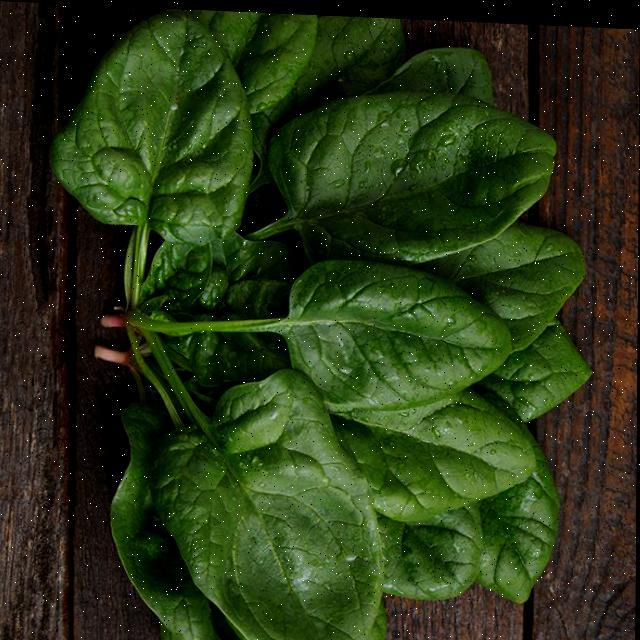Spinach: (44, 2, 601, 640)
